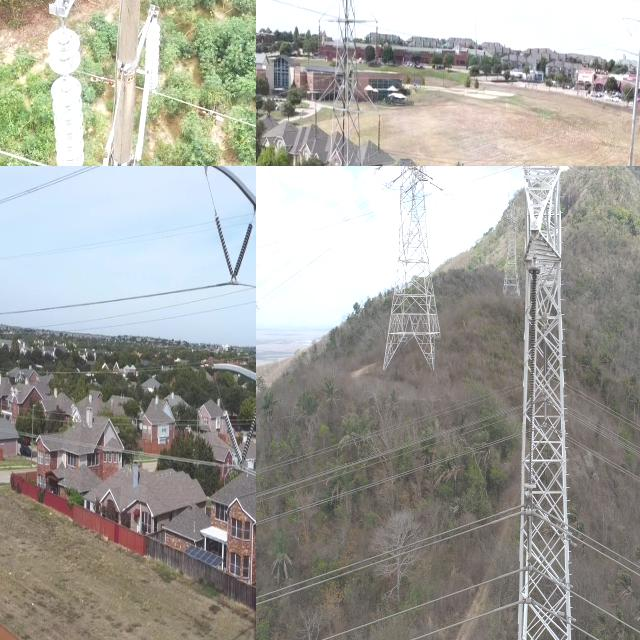杆塔: (516, 166, 573, 640), (316, 0, 380, 166), (389, 166, 436, 372), (501, 172, 518, 296)
正常电缆: (256, 512, 518, 610), (256, 505, 517, 600), (256, 435, 517, 526), (299, 568, 512, 640), (382, 600, 512, 640), (575, 538, 640, 582), (581, 592, 640, 639), (582, 530, 640, 570)
正常绝缘子: (41, 12, 95, 166), (207, 199, 239, 290), (217, 394, 250, 480), (224, 213, 256, 296), (141, 12, 168, 98), (231, 396, 256, 486), (316, 18, 323, 59), (374, 18, 380, 64), (376, 112, 382, 155), (313, 102, 319, 138)
绝缘子破损: (60, 75, 70, 83)
